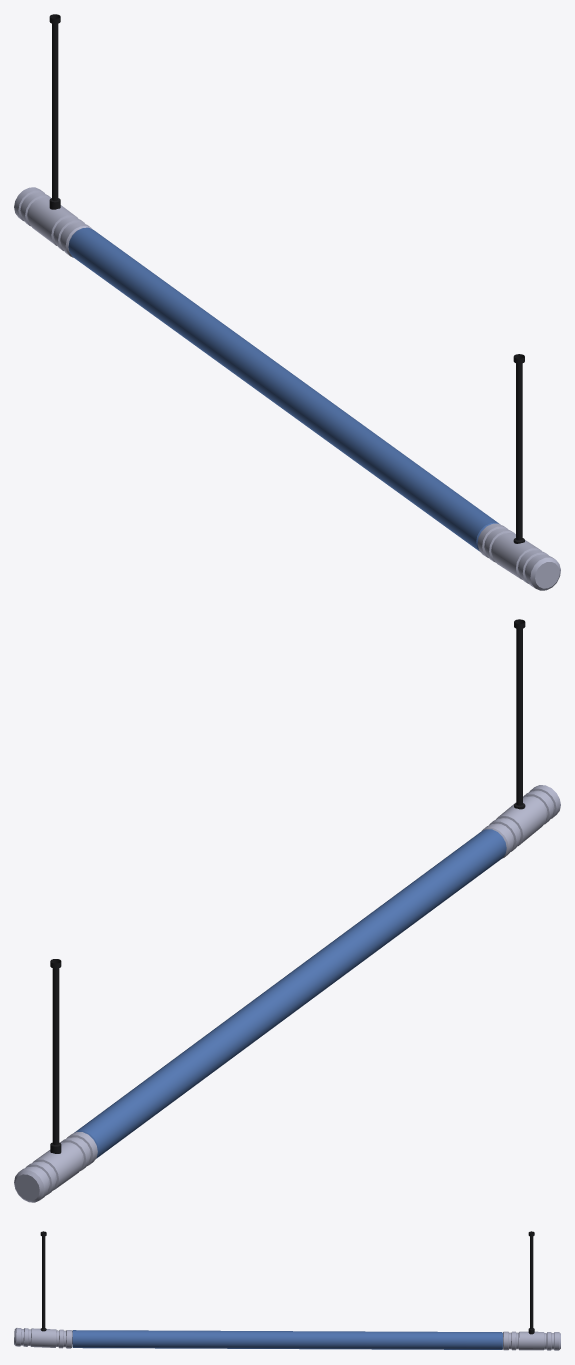
Rendered from Light_Tube_01_SingleBrokenCeiling.glb.
3 renders of one model, top to bottom at view 1: azimuth 30°, elevation 25°; view 2: azimuth 150°, elevation 25°; view 3: azimuth 270°, elevation 25°, orthographic. The views are drawn at different scales.
Visible parts, largest first — view 1: Light_Tube_01_SingleBrokenCeiling.001; view 2: Light_Tube_01_SingleBrokenCeiling.001; view 3: Light_Tube_01_SingleBrokenCeiling.001.
Boxes of the visible parts, x1=… form: Light_Tube_01_SingleBrokenCeiling.001: x1=14, y1=14, x2=560, y2=590; Light_Tube_01_SingleBrokenCeiling.001: x1=14, y1=619, x2=560, y2=1202; Light_Tube_01_SingleBrokenCeiling.001: x1=14, y1=1231, x2=560, y2=1350.
Bounding box in the file's own units: 0.0751 × 0.5042 × 2.14.
